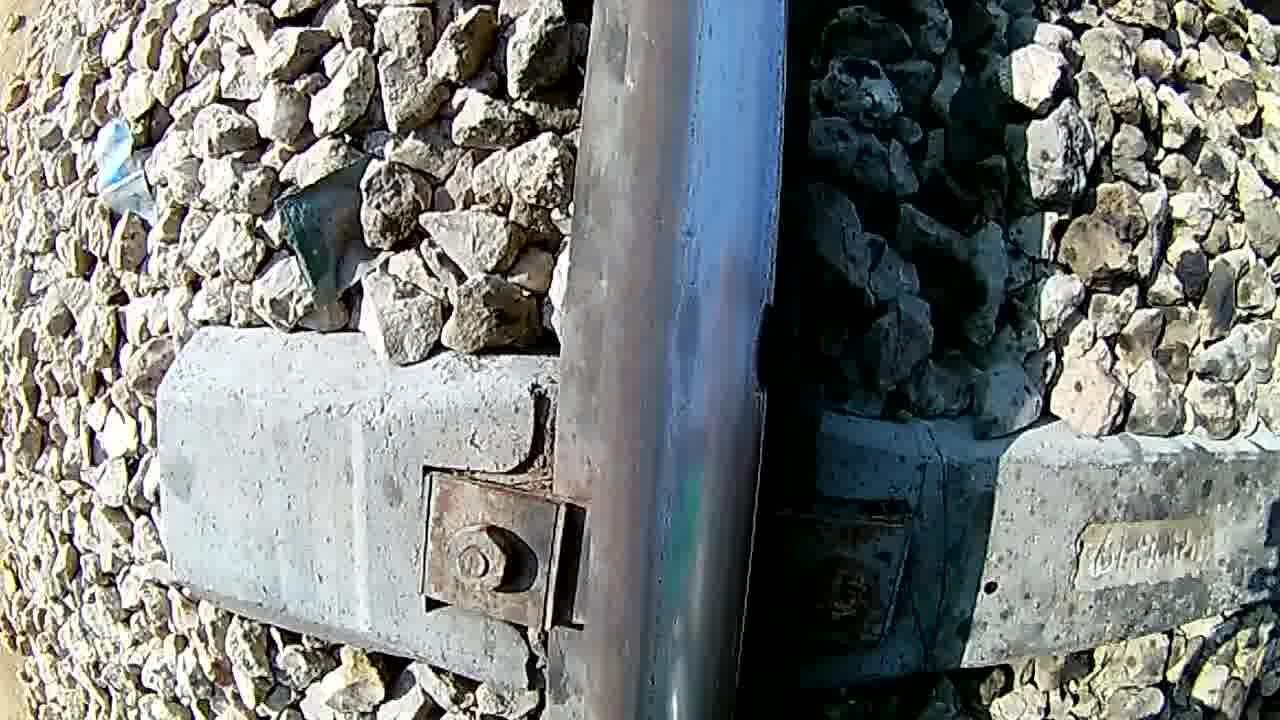crack: (564, 3, 753, 720)
